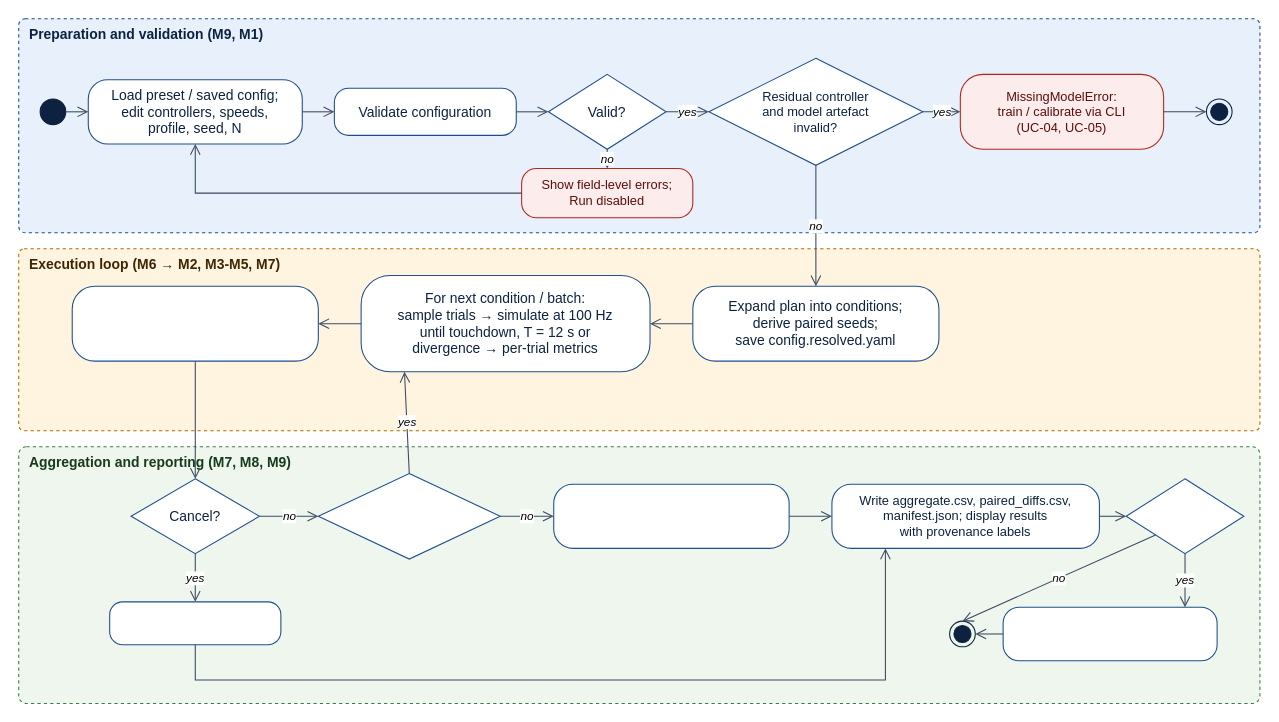
Image size: 1279x722. Some labels were removed from this diagram. The centre of each missing label's shape, as x and y in pixels:
Aggregate: means, Wilson 95% CI, paired bootstrap vs PID, sigma_bar: the point at 671,515
Append batch atomically to trials.csv; publish progress: the point at 194,323
Export CSV / PNG / SVG / summary: the point at 1109,633
Export?: the point at 1184,516
More batches or conditions?: the point at 408,515
Status = CANCELLED: the point at 195,623
